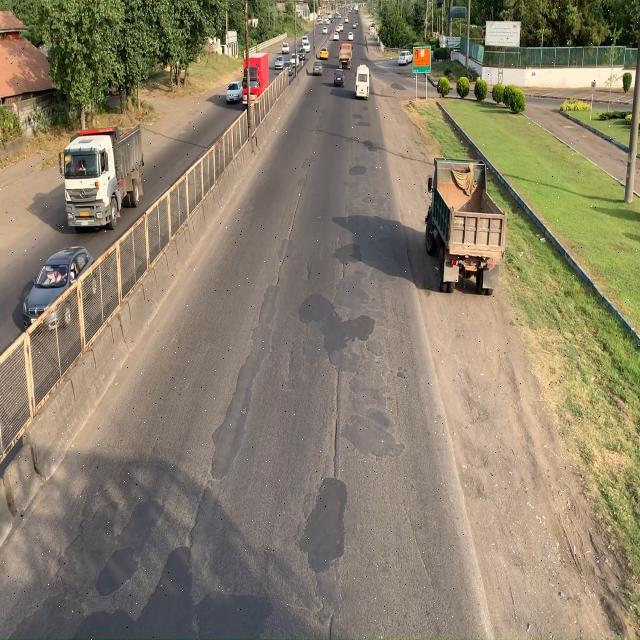Truck: (424, 156, 508, 298), (122, 95, 180, 185), (241, 53, 270, 110)
cars: (30, 250, 103, 336), (220, 80, 242, 105)
